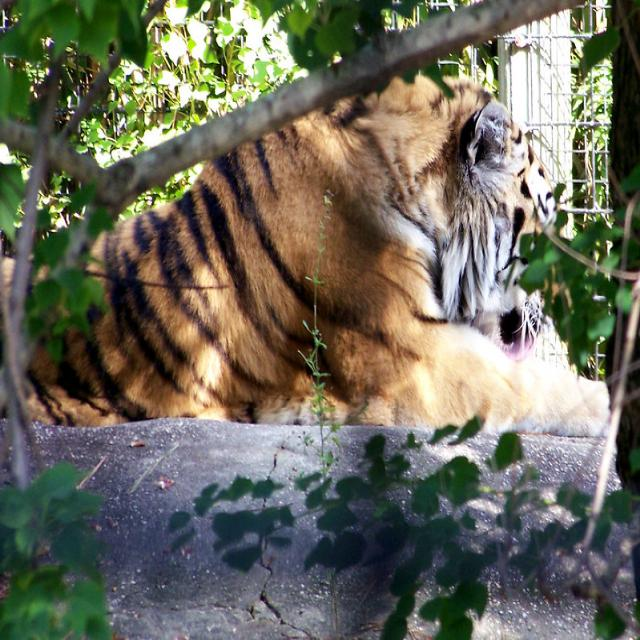Tiger: (0, 71, 592, 424)
